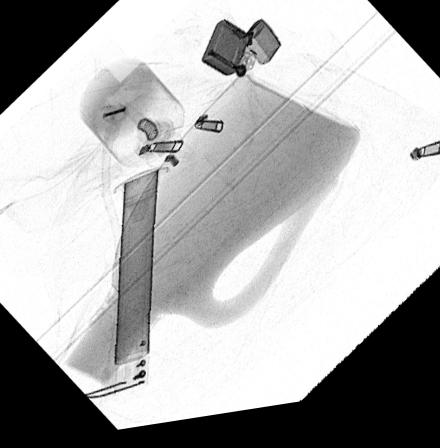Lighter: (201, 25, 282, 87)
